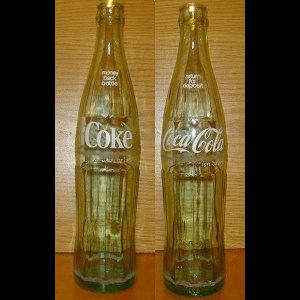emptybottle: (73, 1, 142, 292), (163, 2, 228, 297)
